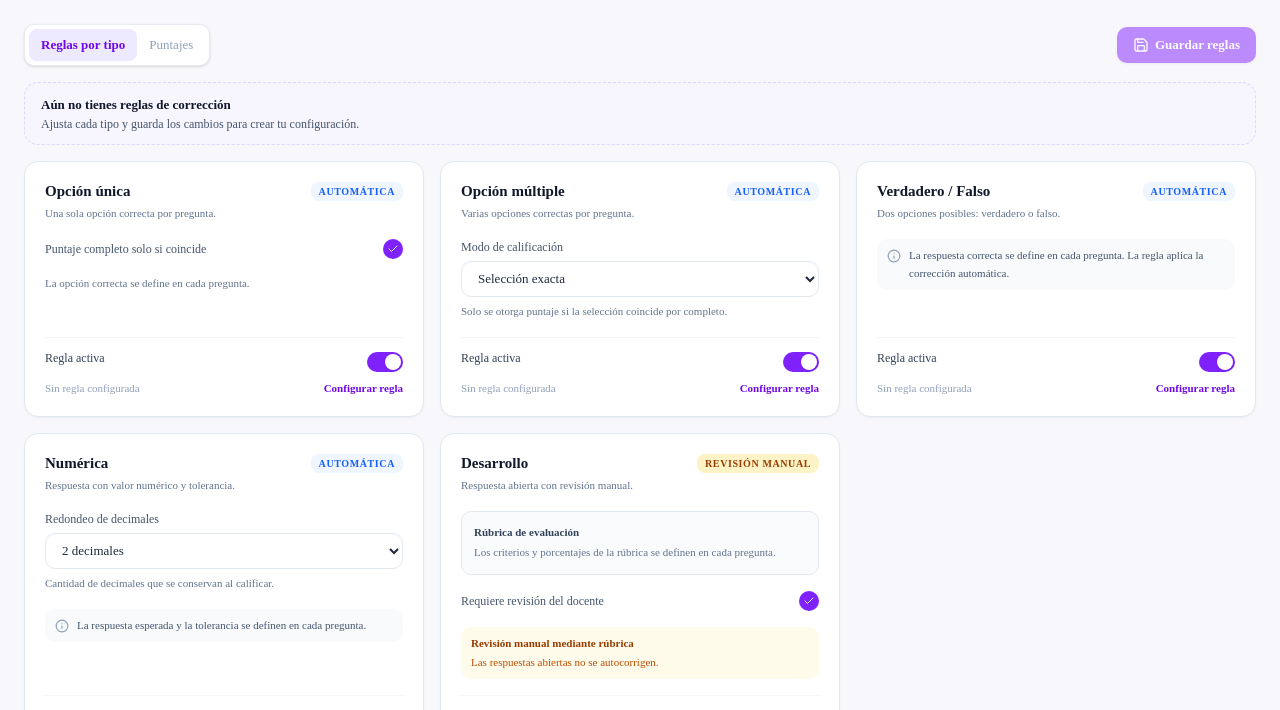
Test case: ReglasCorreccion › crea una regla de opción única sin enviar docente_id
Expected: the text "Aún no tienes reglas de corrección" is shown, [41, 96, 231, 112]
Click the checkbox labelled "Regla activa" below "Puntaje completo solo si coincide" at (75, 358), box [45, 350, 105, 366]
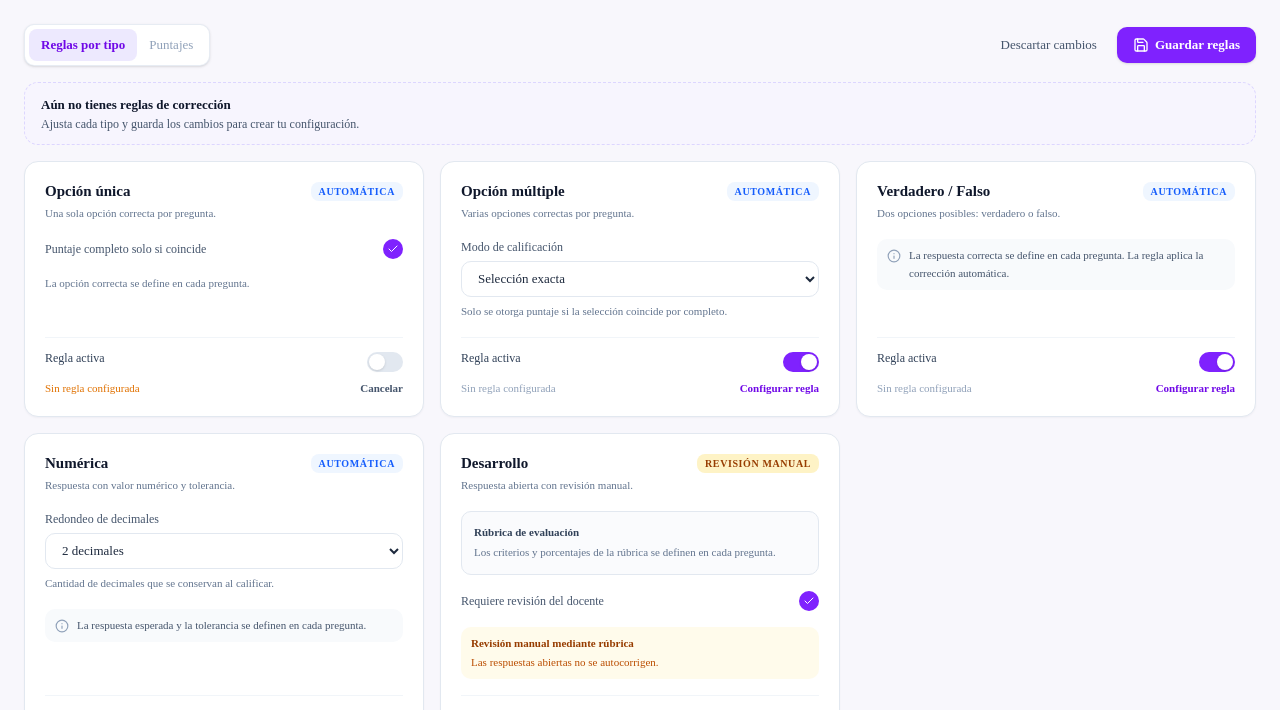
Click the checkbox labelled "Regla activa" below "Puntaje completo solo si coincide" at (75, 358), box [45, 350, 105, 366]
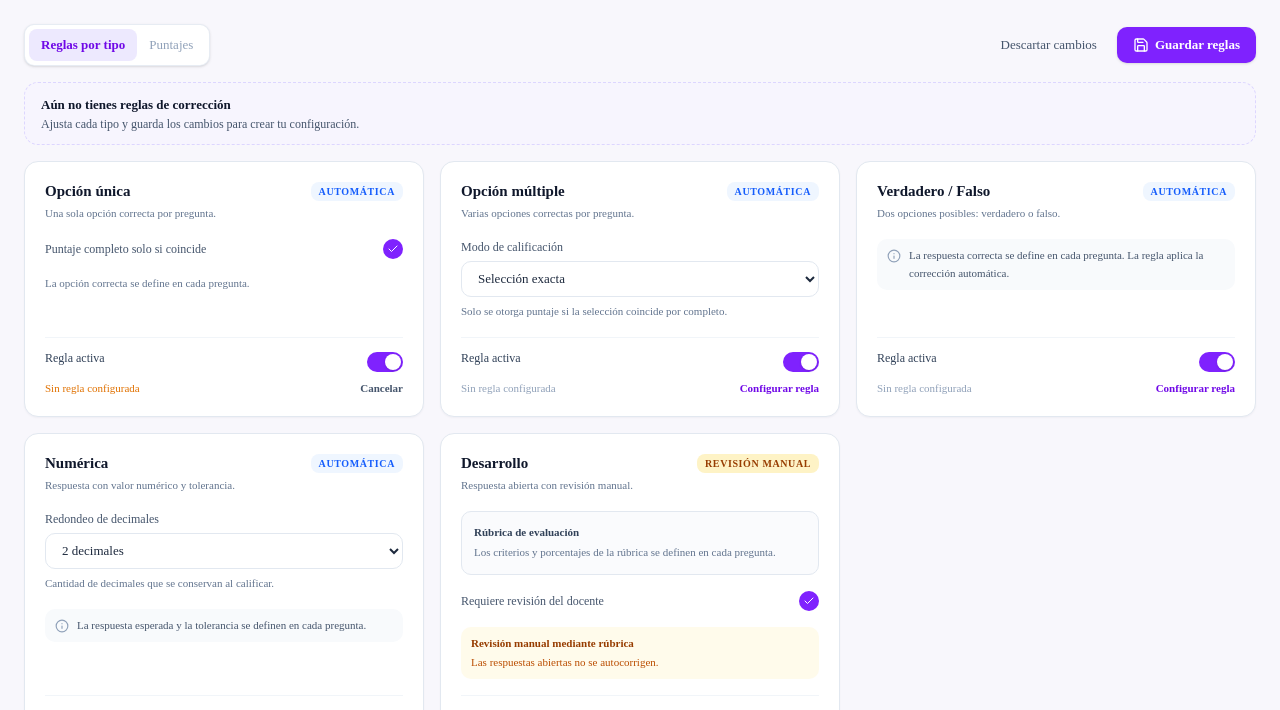
Click the button "Guardar reglas" at (1186, 45), box [1117, 27, 1256, 63]
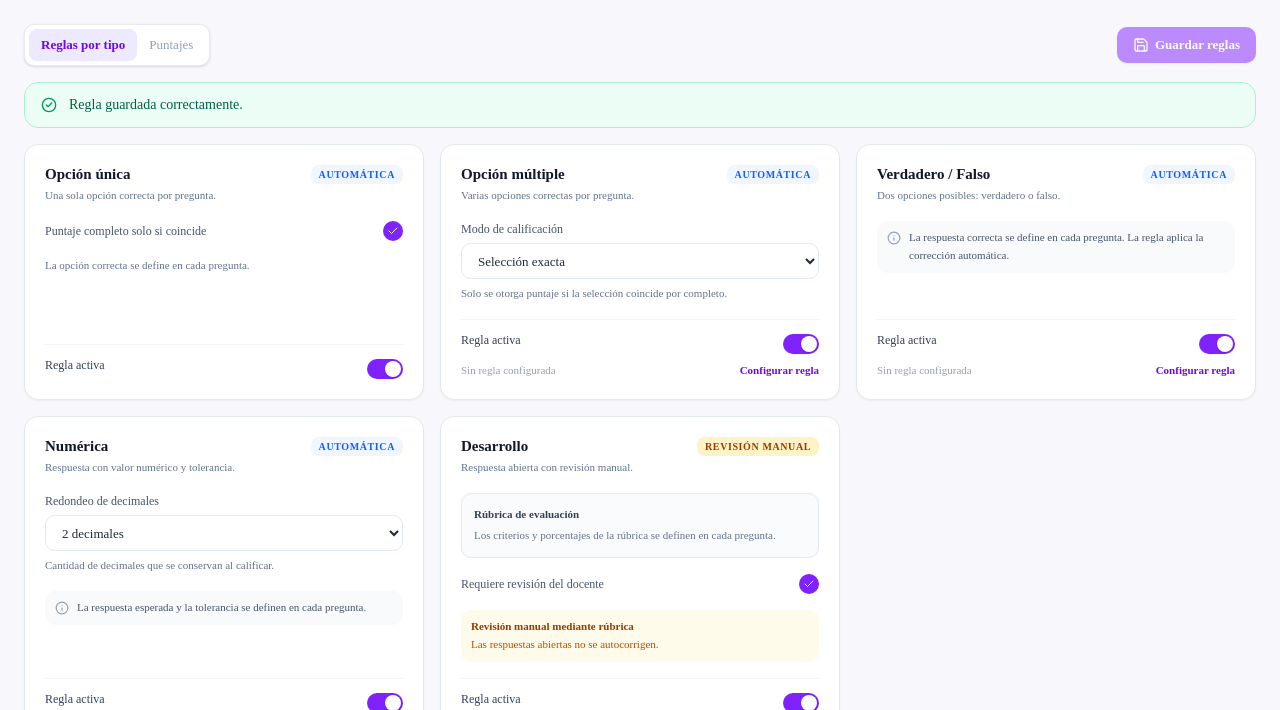
Expected: the text "Regla guardada correctamente." is shown, [69, 94, 243, 114]
